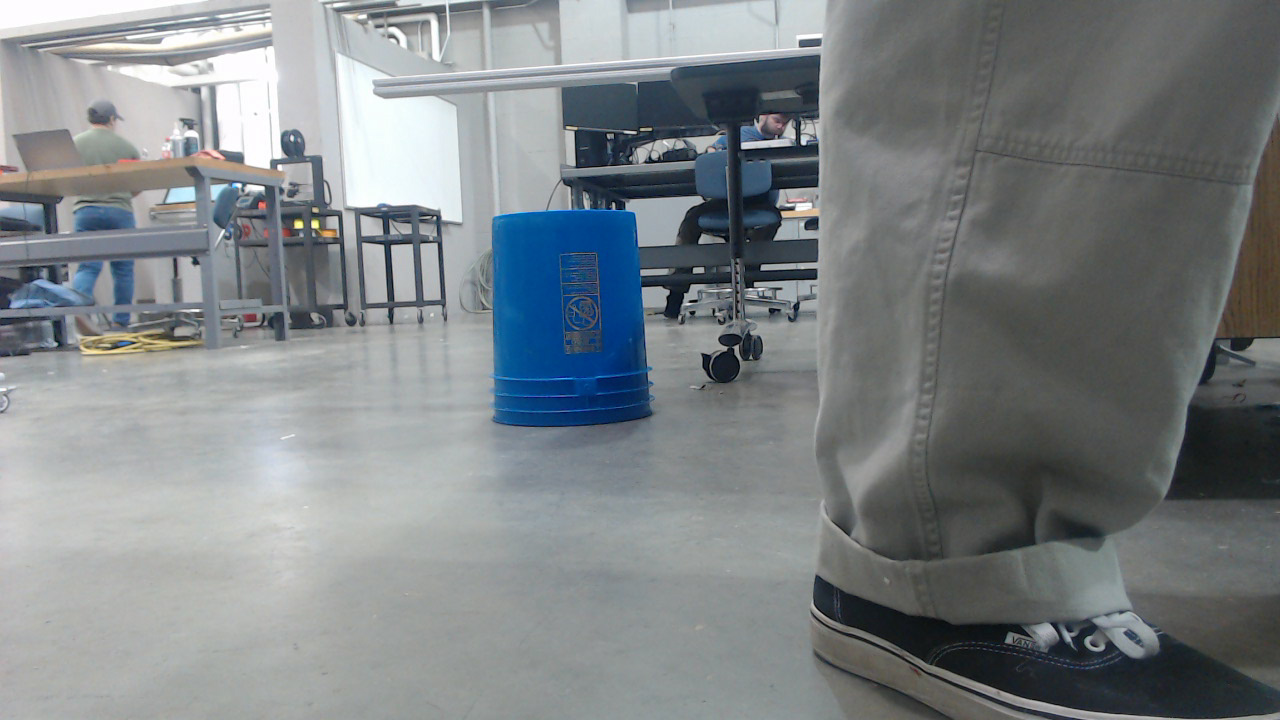blue_bucket: (489, 211, 662, 437)
